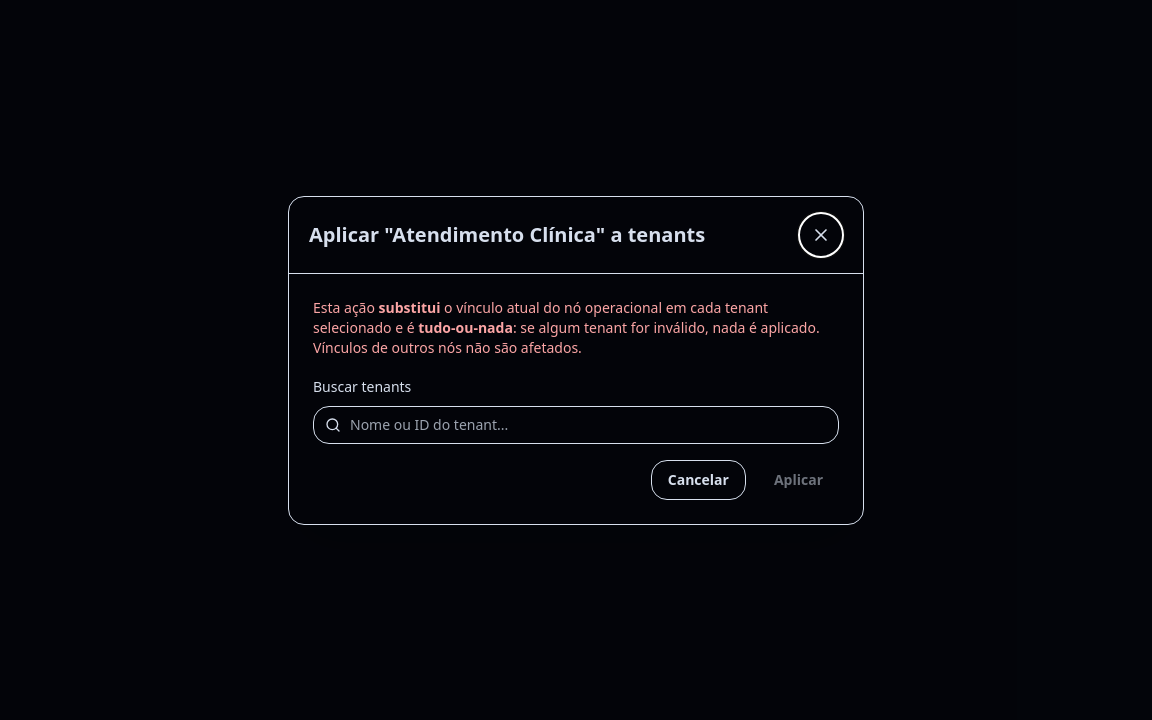
Scenario: BulkTenantLinkModal › lists blockers and states nothing was applied on TENANT_NOT_FOUND
The image size is (1152, 720).
Type "inexistente-1" into the field labelled "Buscar tenants" at x=576, y=424, box x1=313 y1=406 x2=839 y2=444
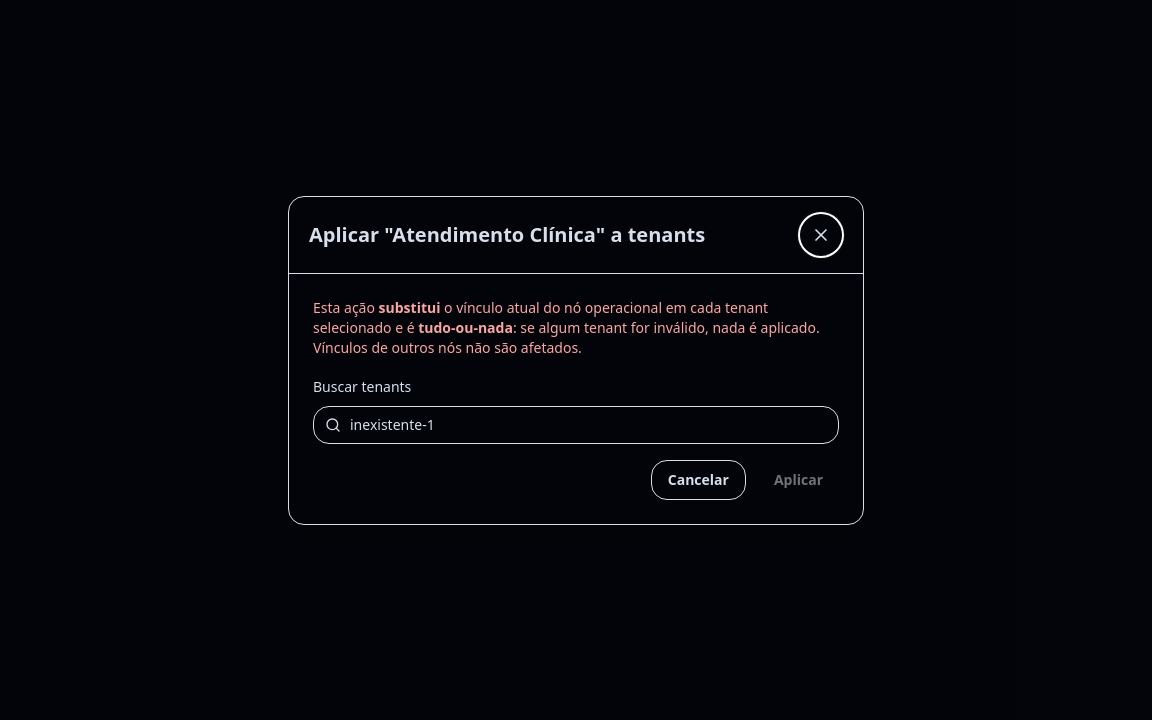
Press Enter in the field labelled "Buscar tenants", box x1=313 y1=406 x2=839 y2=444
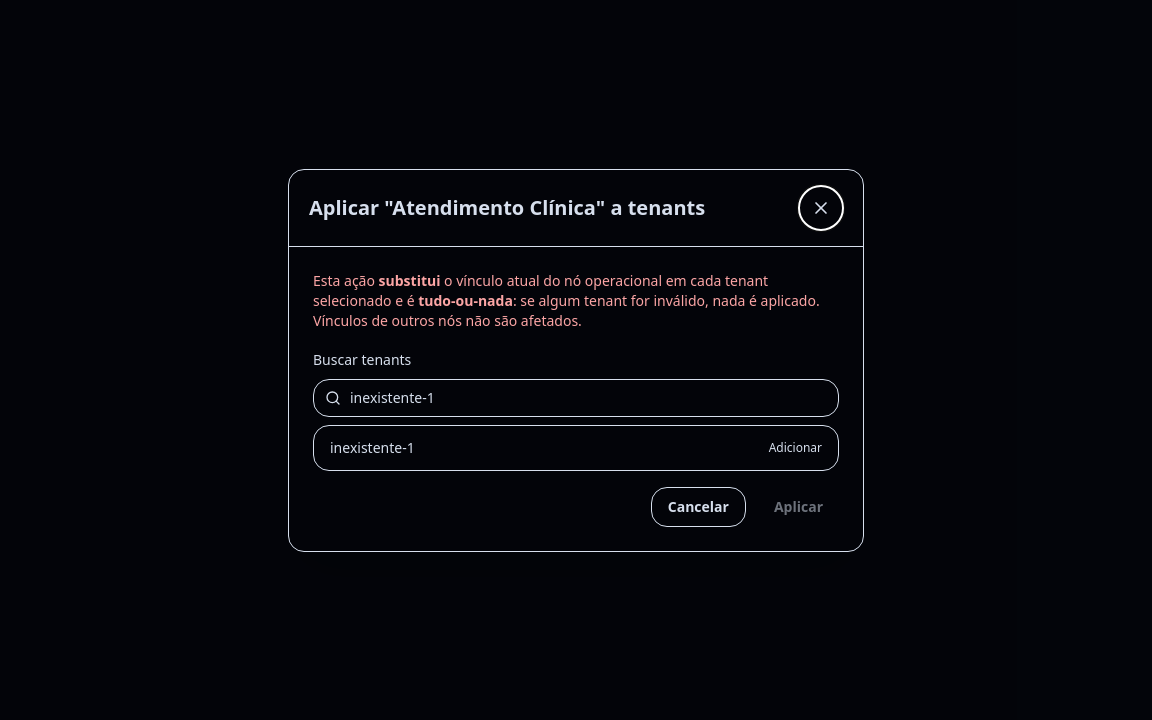
Result: the text "inexistente-1" is shown
Click the text "inexistente-1" at x=372, y=448, box x1=330 y1=438 x2=415 y2=458
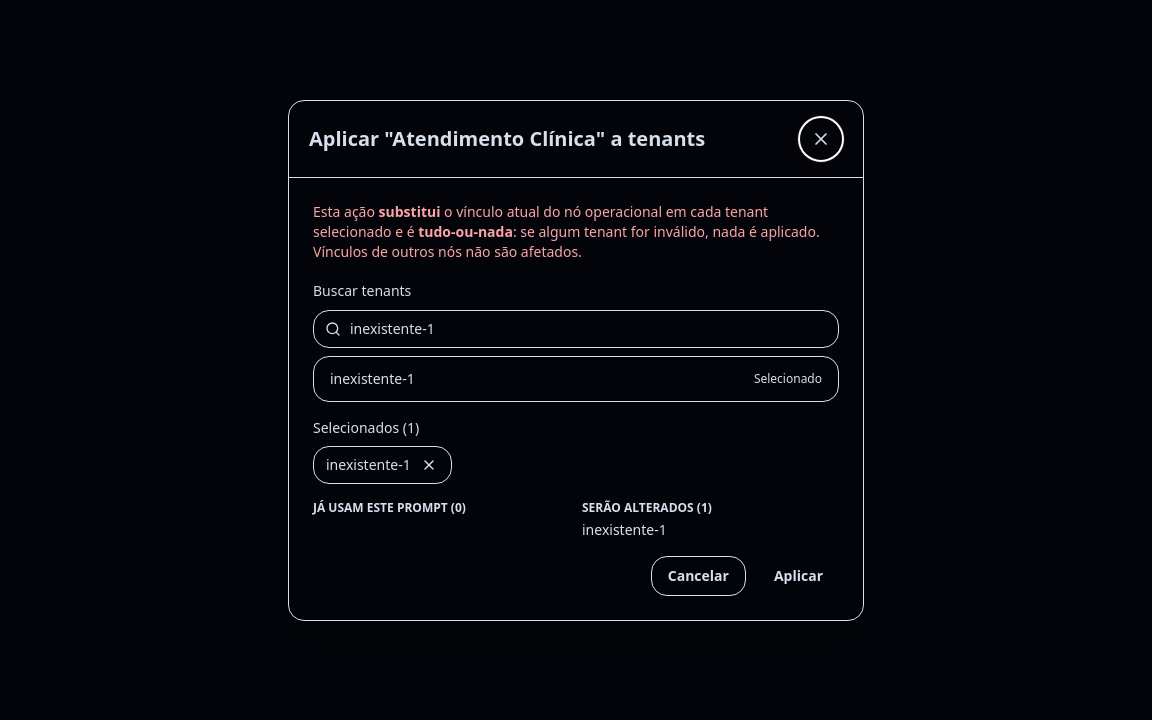
Click the button "Aplicar" at x=798, y=576, box x1=758 y1=556 x2=839 y2=596
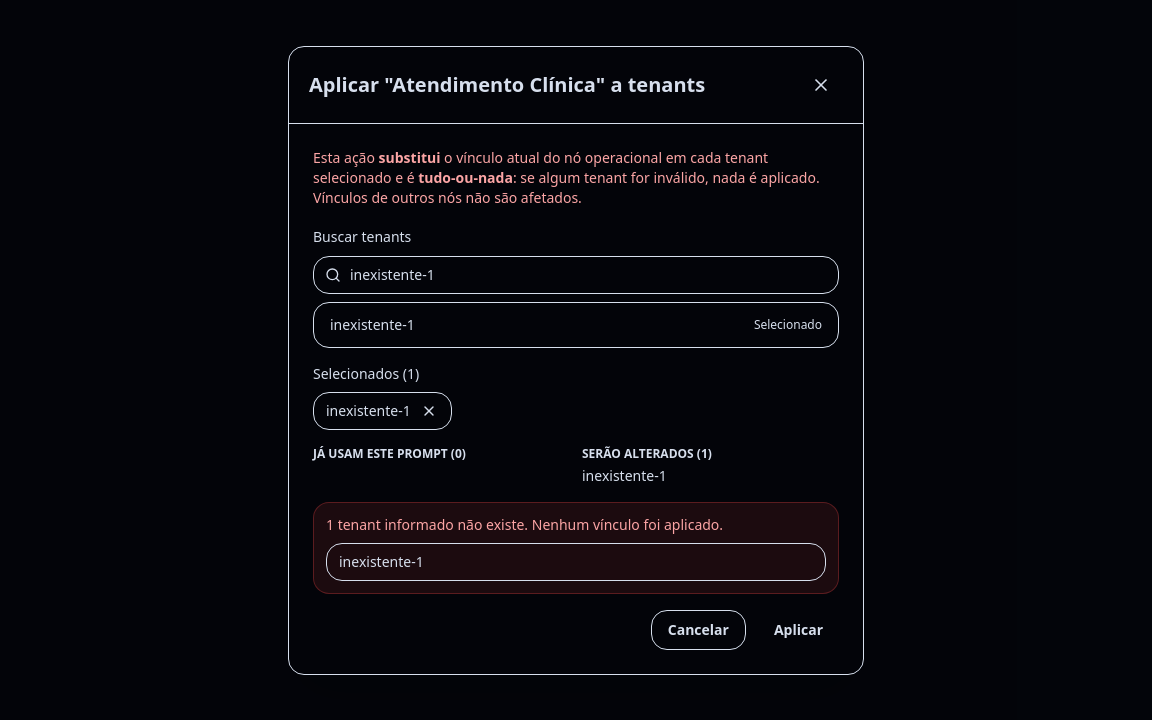
Result: the text "1 tenant informado não existe. Nenhum vínculo foi aplicado." is shown at x1=326 y1=514 x2=723 y2=534
Result: the 3rd text "inexistente-1" is shown at x1=339 y1=552 x2=424 y2=572
